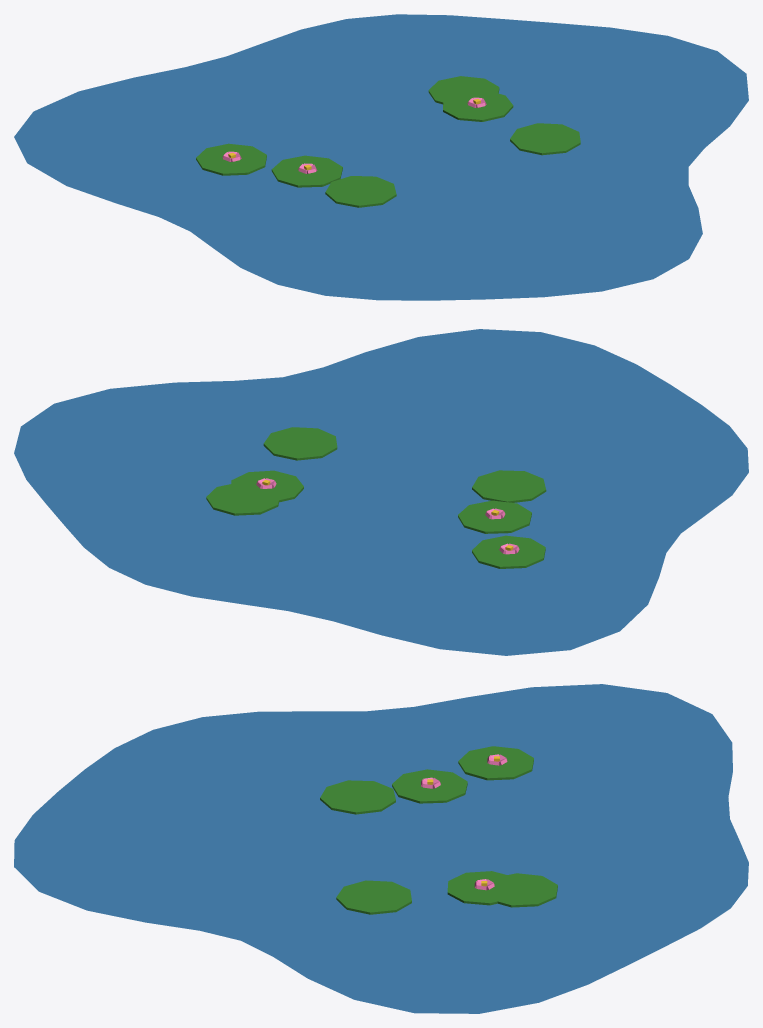
Rendered from pond_water.obj.
3 renders of one model, top to bottom at view 1: azimuth 30°, elevation 25°; view 2: azimuth 150°, elevation 25°; view 3: azimuth 270°, elevation 25°, orthographic. The views are drawn at different scales.
Visible parts, largest first — view 1: water, lily; view 2: water, lily; view 3: water, lily.
Part boxes in pixels (<box>): water: <box>14,14,748,300</box>; lily: <box>196,76,580,207</box>; water: <box>14,329,748,655</box>; lily: <box>206,427,546,568</box>; water: <box>14,684,748,1013</box>; lily: <box>320,746,557,914</box>.
Bounding box in the file's own units: 6.46 × 0.07 × 6.08.
